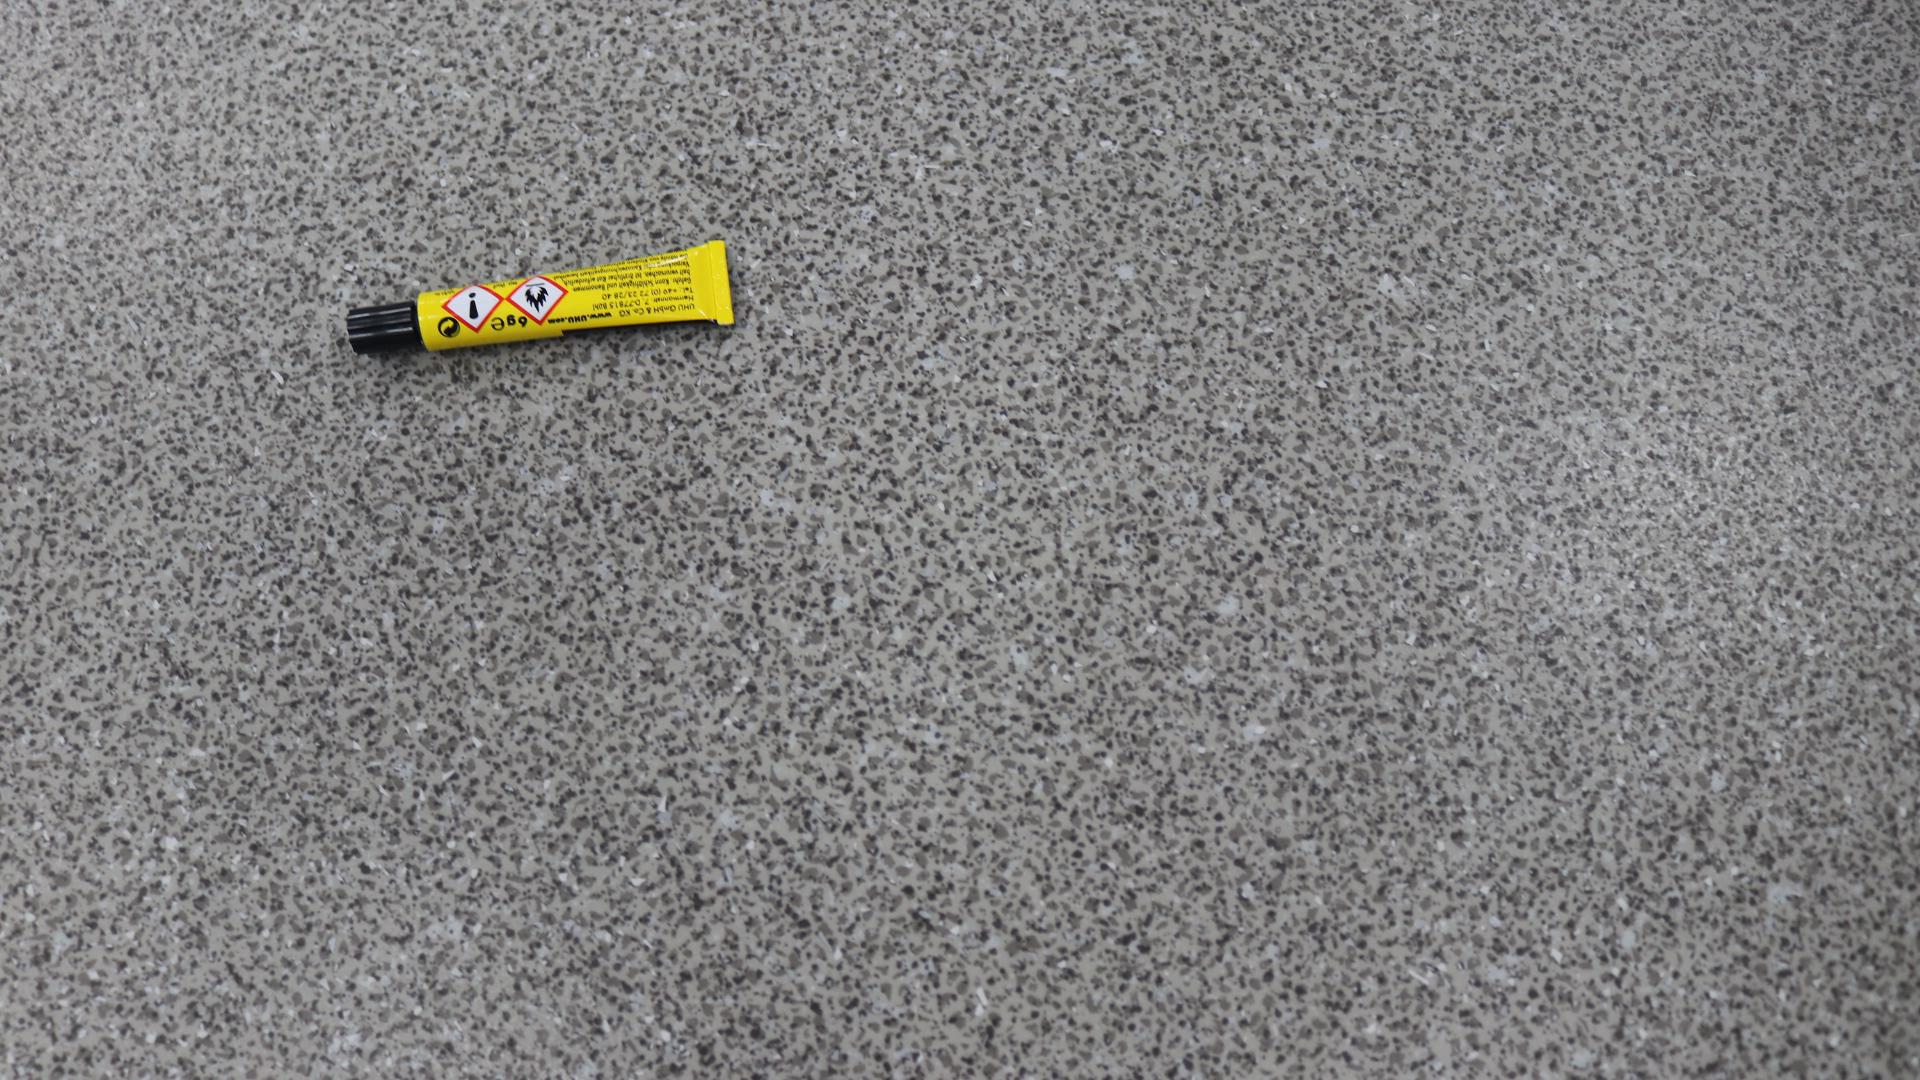Head: (374, 322, 389, 333)
Tail: (715, 272, 726, 289)
Tube: (346, 240, 736, 354)
